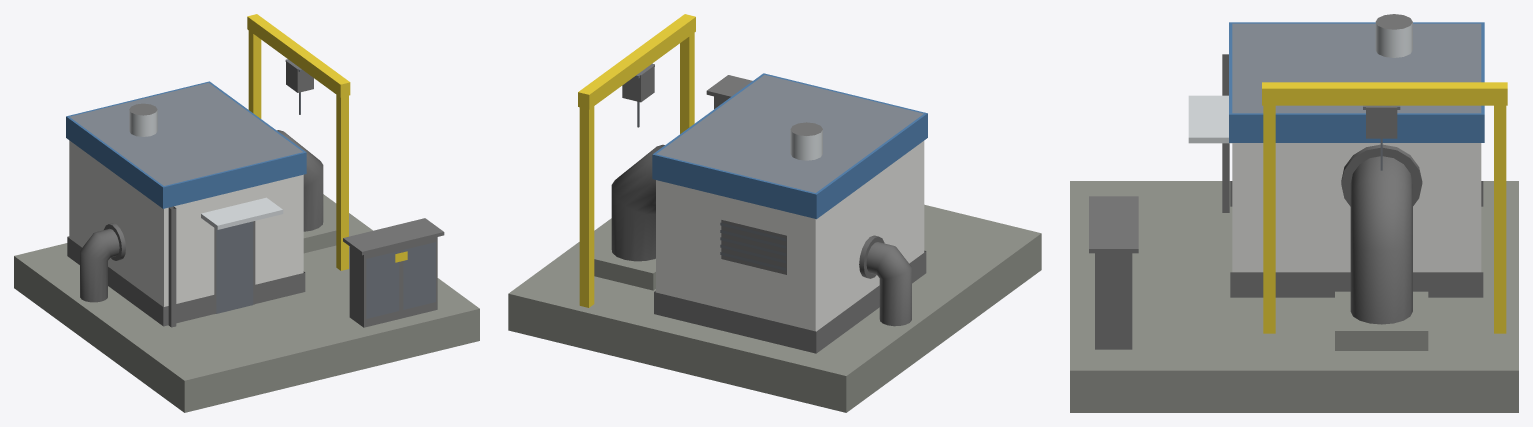
File: mashup-intake-top-prebuilt_close.fbx
The picture shows the model from 3 angles, left to right: view 1: azimuth 30°, elevation 25°; view 2: azimuth 150°, elevation 25°; view 3: azimuth 270°, elevation 25°; orthographic projection. The views are drawn at different scales.
Parts seen in each view (by area): view 1: a1074/0/mashup-intake-top-prebuilt_close; view 2: a1074/0/mashup-intake-top-prebuilt_close; view 3: a1074/0/mashup-intake-top-prebuilt_close.
Boxes of the visible parts, left/top/right/bottom form: a1074/0/mashup-intake-top-prebuilt_close: left=14, top=14, right=479, bottom=412; a1074/0/mashup-intake-top-prebuilt_close: left=508, top=14, right=1041, bottom=412; a1074/0/mashup-intake-top-prebuilt_close: left=1070, top=14, right=1518, bottom=412.
Bounding box in the file's own units: 7.2 × 5.1 × 7.2.
